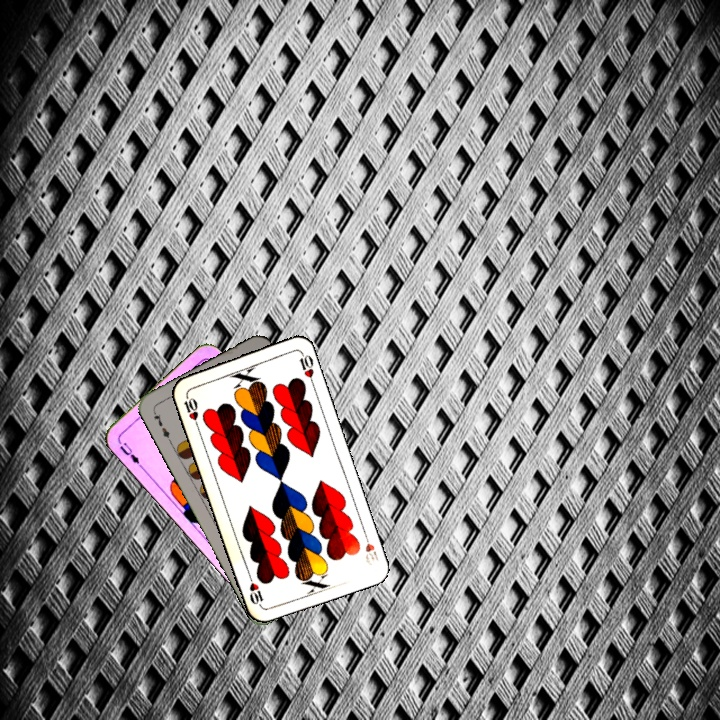E7: (149, 406, 174, 444)
EU: (115, 437, 145, 471)
H10: (360, 528, 382, 568), (179, 390, 201, 429)
